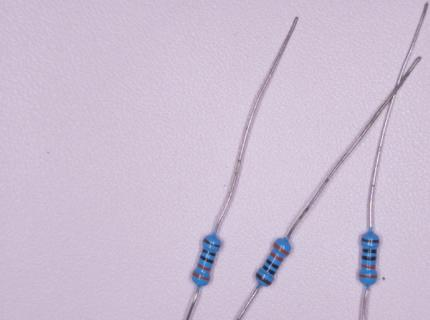Orange band: (273, 243, 290, 256), (192, 271, 210, 280), (270, 252, 283, 262), (198, 263, 211, 271), (360, 274, 377, 279), (362, 264, 376, 269)
